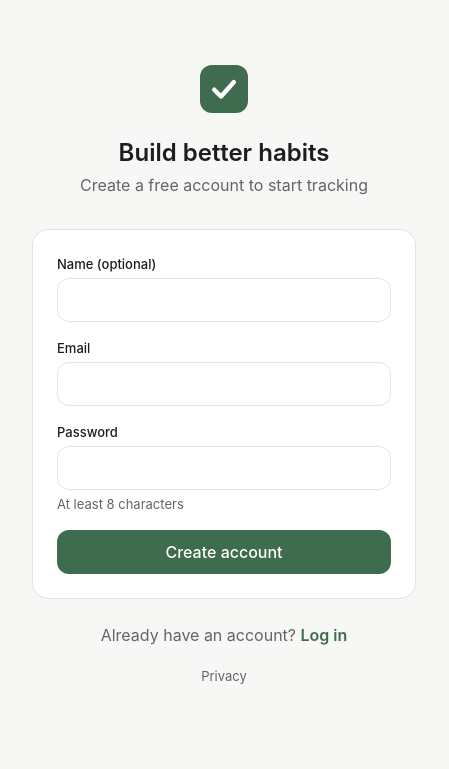
Test: signing up › creates the account with the device's timezone and starts onboarding
Type "Ada" into the field labelled "Name (optional)".
click(224, 300); type("Ada")  # box [57,278,391,322]
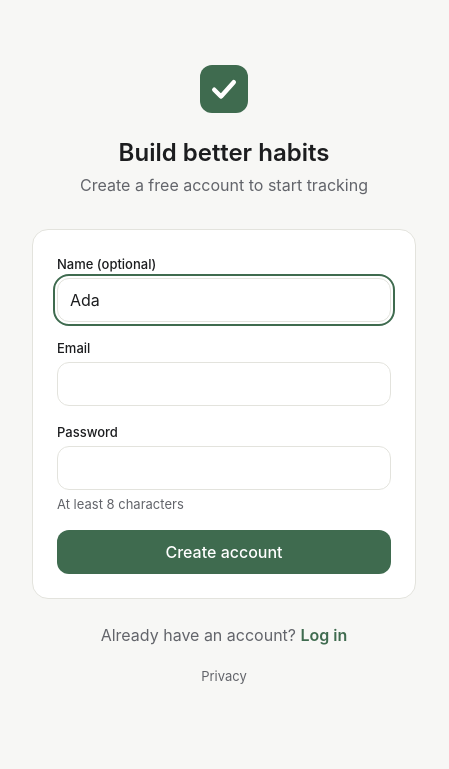
Type "ada@example.com" into the field labelled "Email".
click(224, 384); type("ada@example.com")  # box [57,362,391,406]
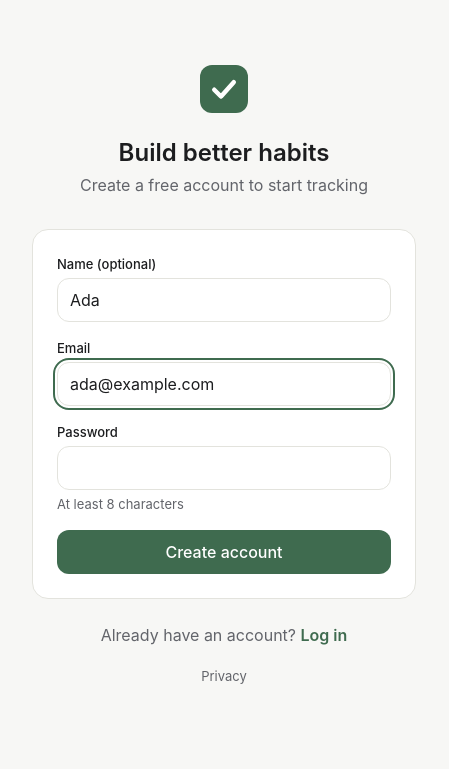
Type "correct horse battery" into the password field labelled "Password".
click(224, 468); type("correct horse battery")  # box [57,446,391,490]
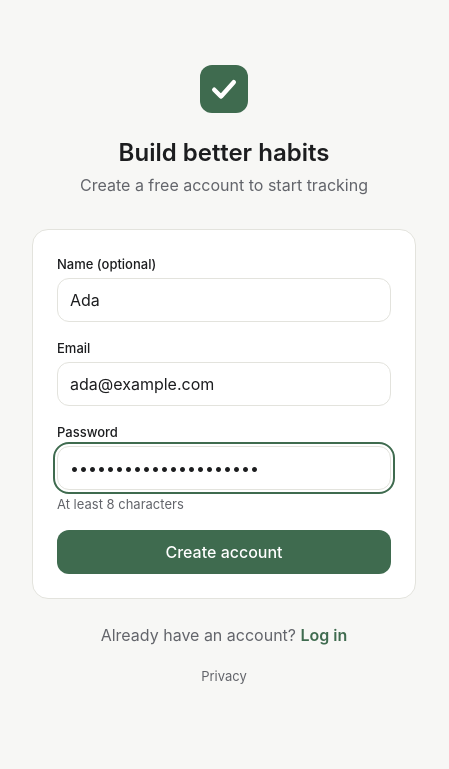
Click the button "Create account".
click(224, 552)  # box [57,530,391,574]
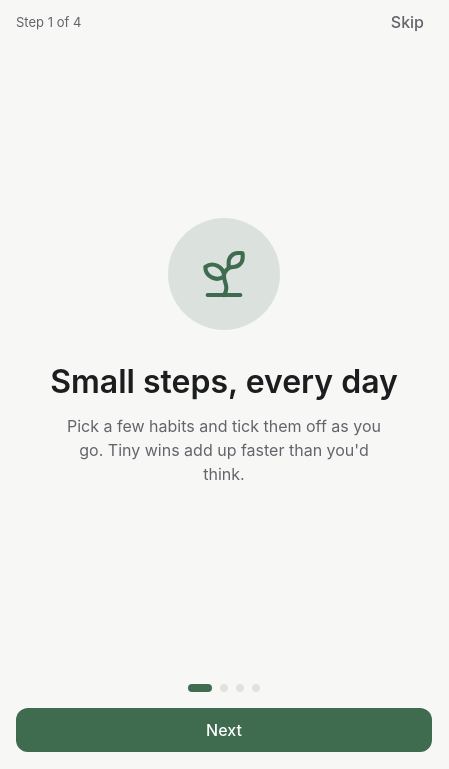
Expected: the heading "Small steps, every day" is shown, [50,362,398,402]
